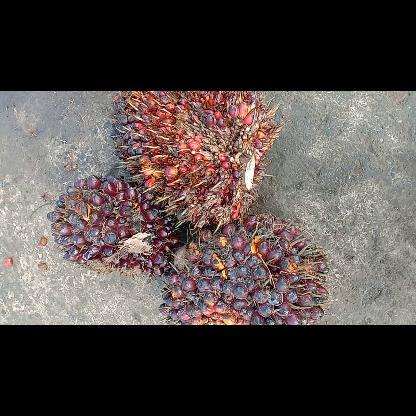Kurang masak: (158, 214, 330, 324), (48, 175, 176, 273)
TBS masak: (113, 90, 277, 228)
